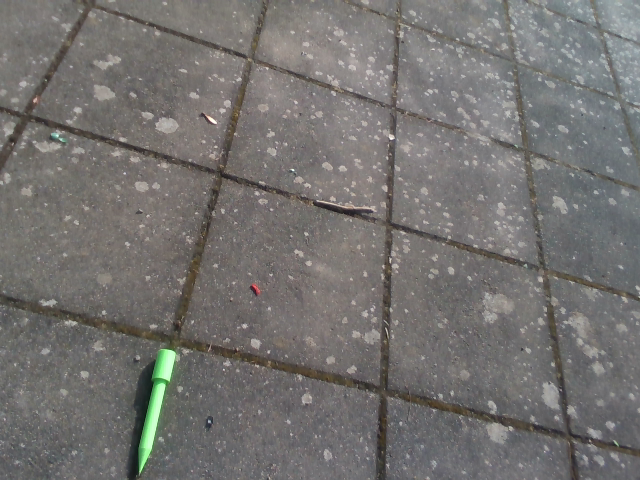Probe: (130, 343, 183, 479)
